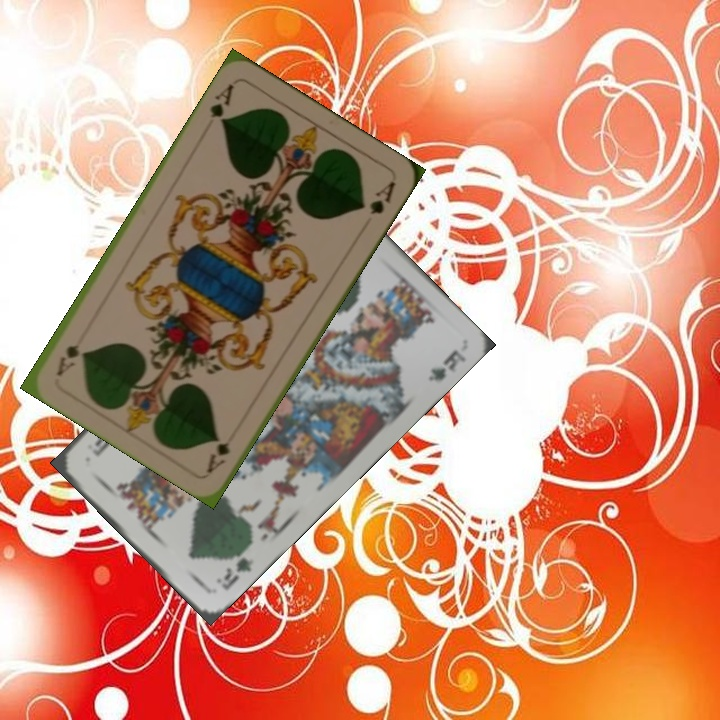GA: (202, 423, 240, 476), (205, 79, 237, 127)
GK: (212, 553, 257, 593)
